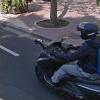Motorcycle: (26, 33, 100, 100)
